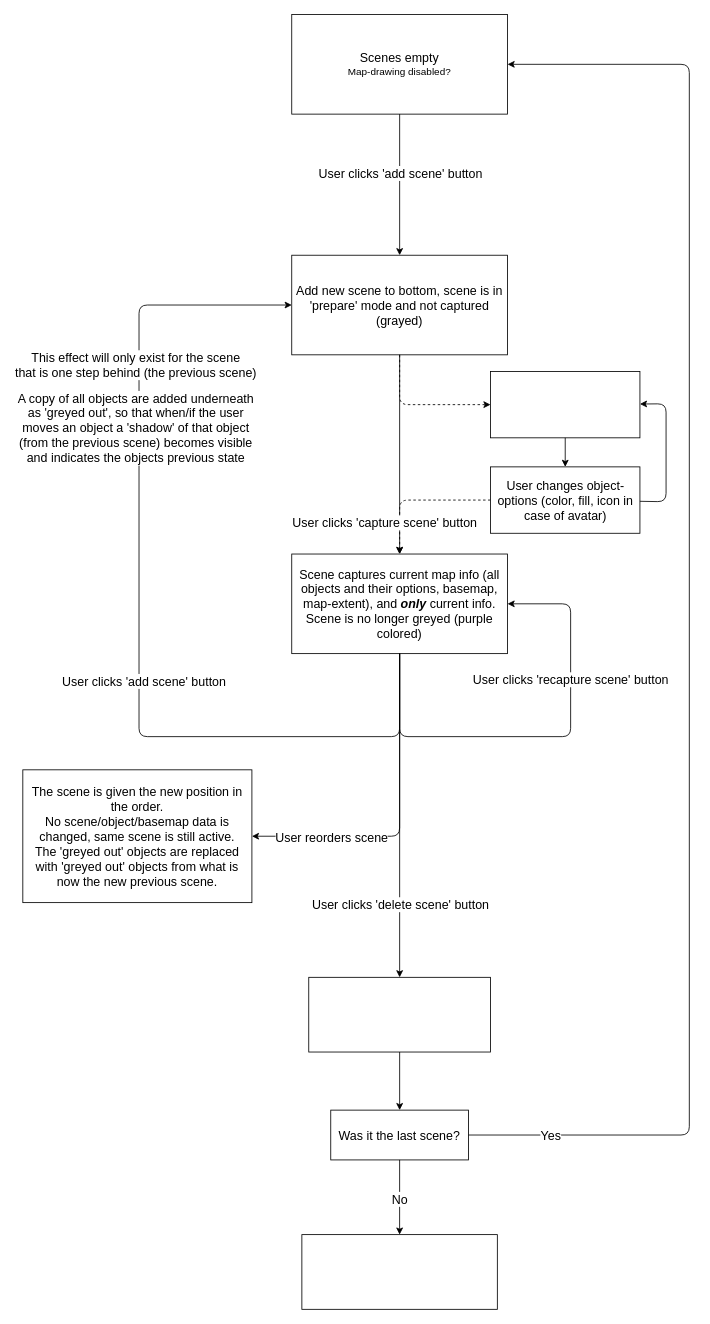
Some shapes in this 710 by 1324 pixel diagram are drawn without their labels. The centre of each missing label's shape, as x and y in pixels:
"The previous scene is activated, along with its objects and basemap" belongs at (399,1271).
"The scene is removed along with all accompanying objects" belongs at (399,1014).
"User draws an object Object is automatically in 'editing' mode" belongs at (565,404).
